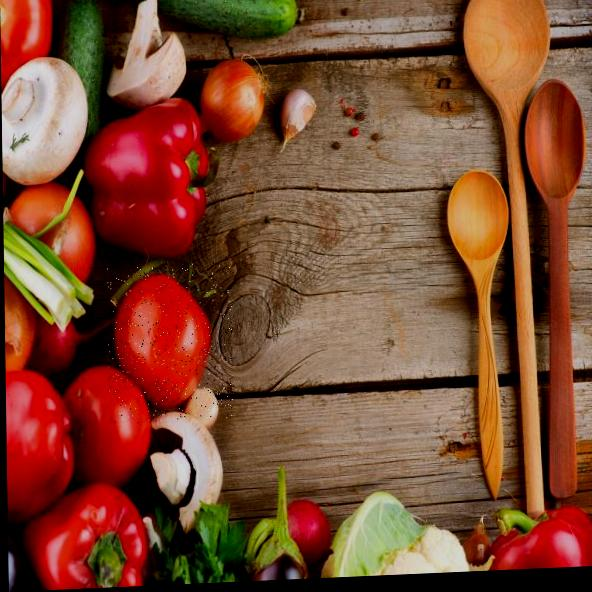Tomato: (107, 262, 233, 424)
